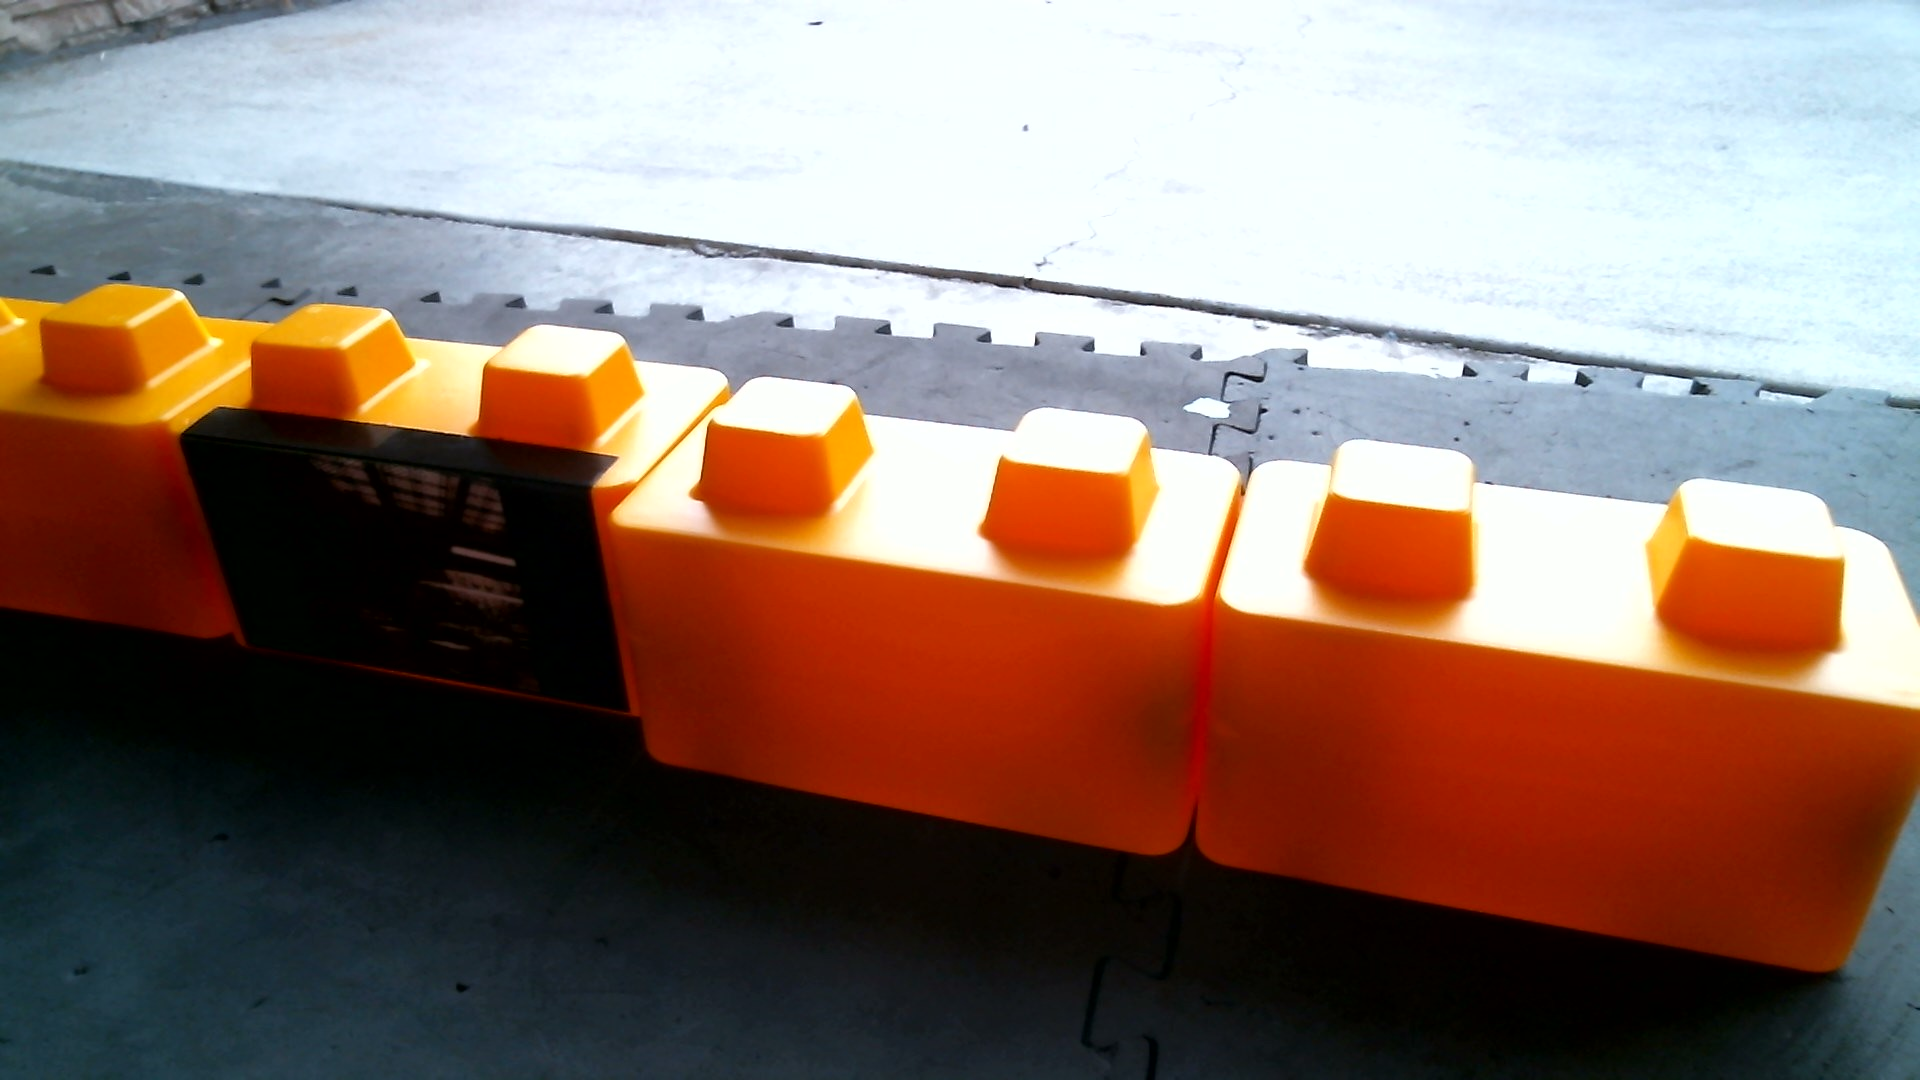left: (171, 282, 1920, 1000)
